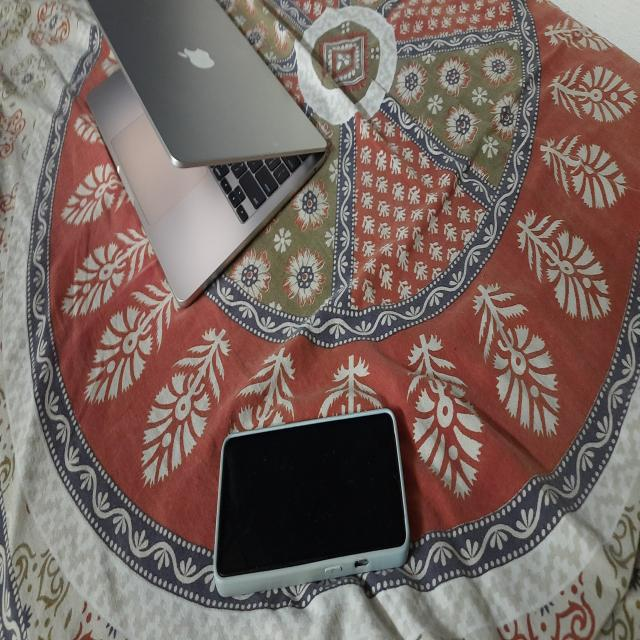Laptop-and-Mobile: (89, 0, 328, 307)
Mobile: (213, 420, 412, 590)
